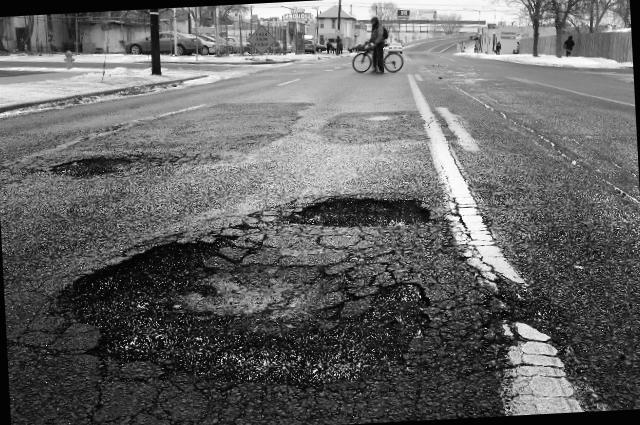Pothole: (46, 208, 415, 402), (286, 178, 436, 235), (44, 137, 142, 194)
